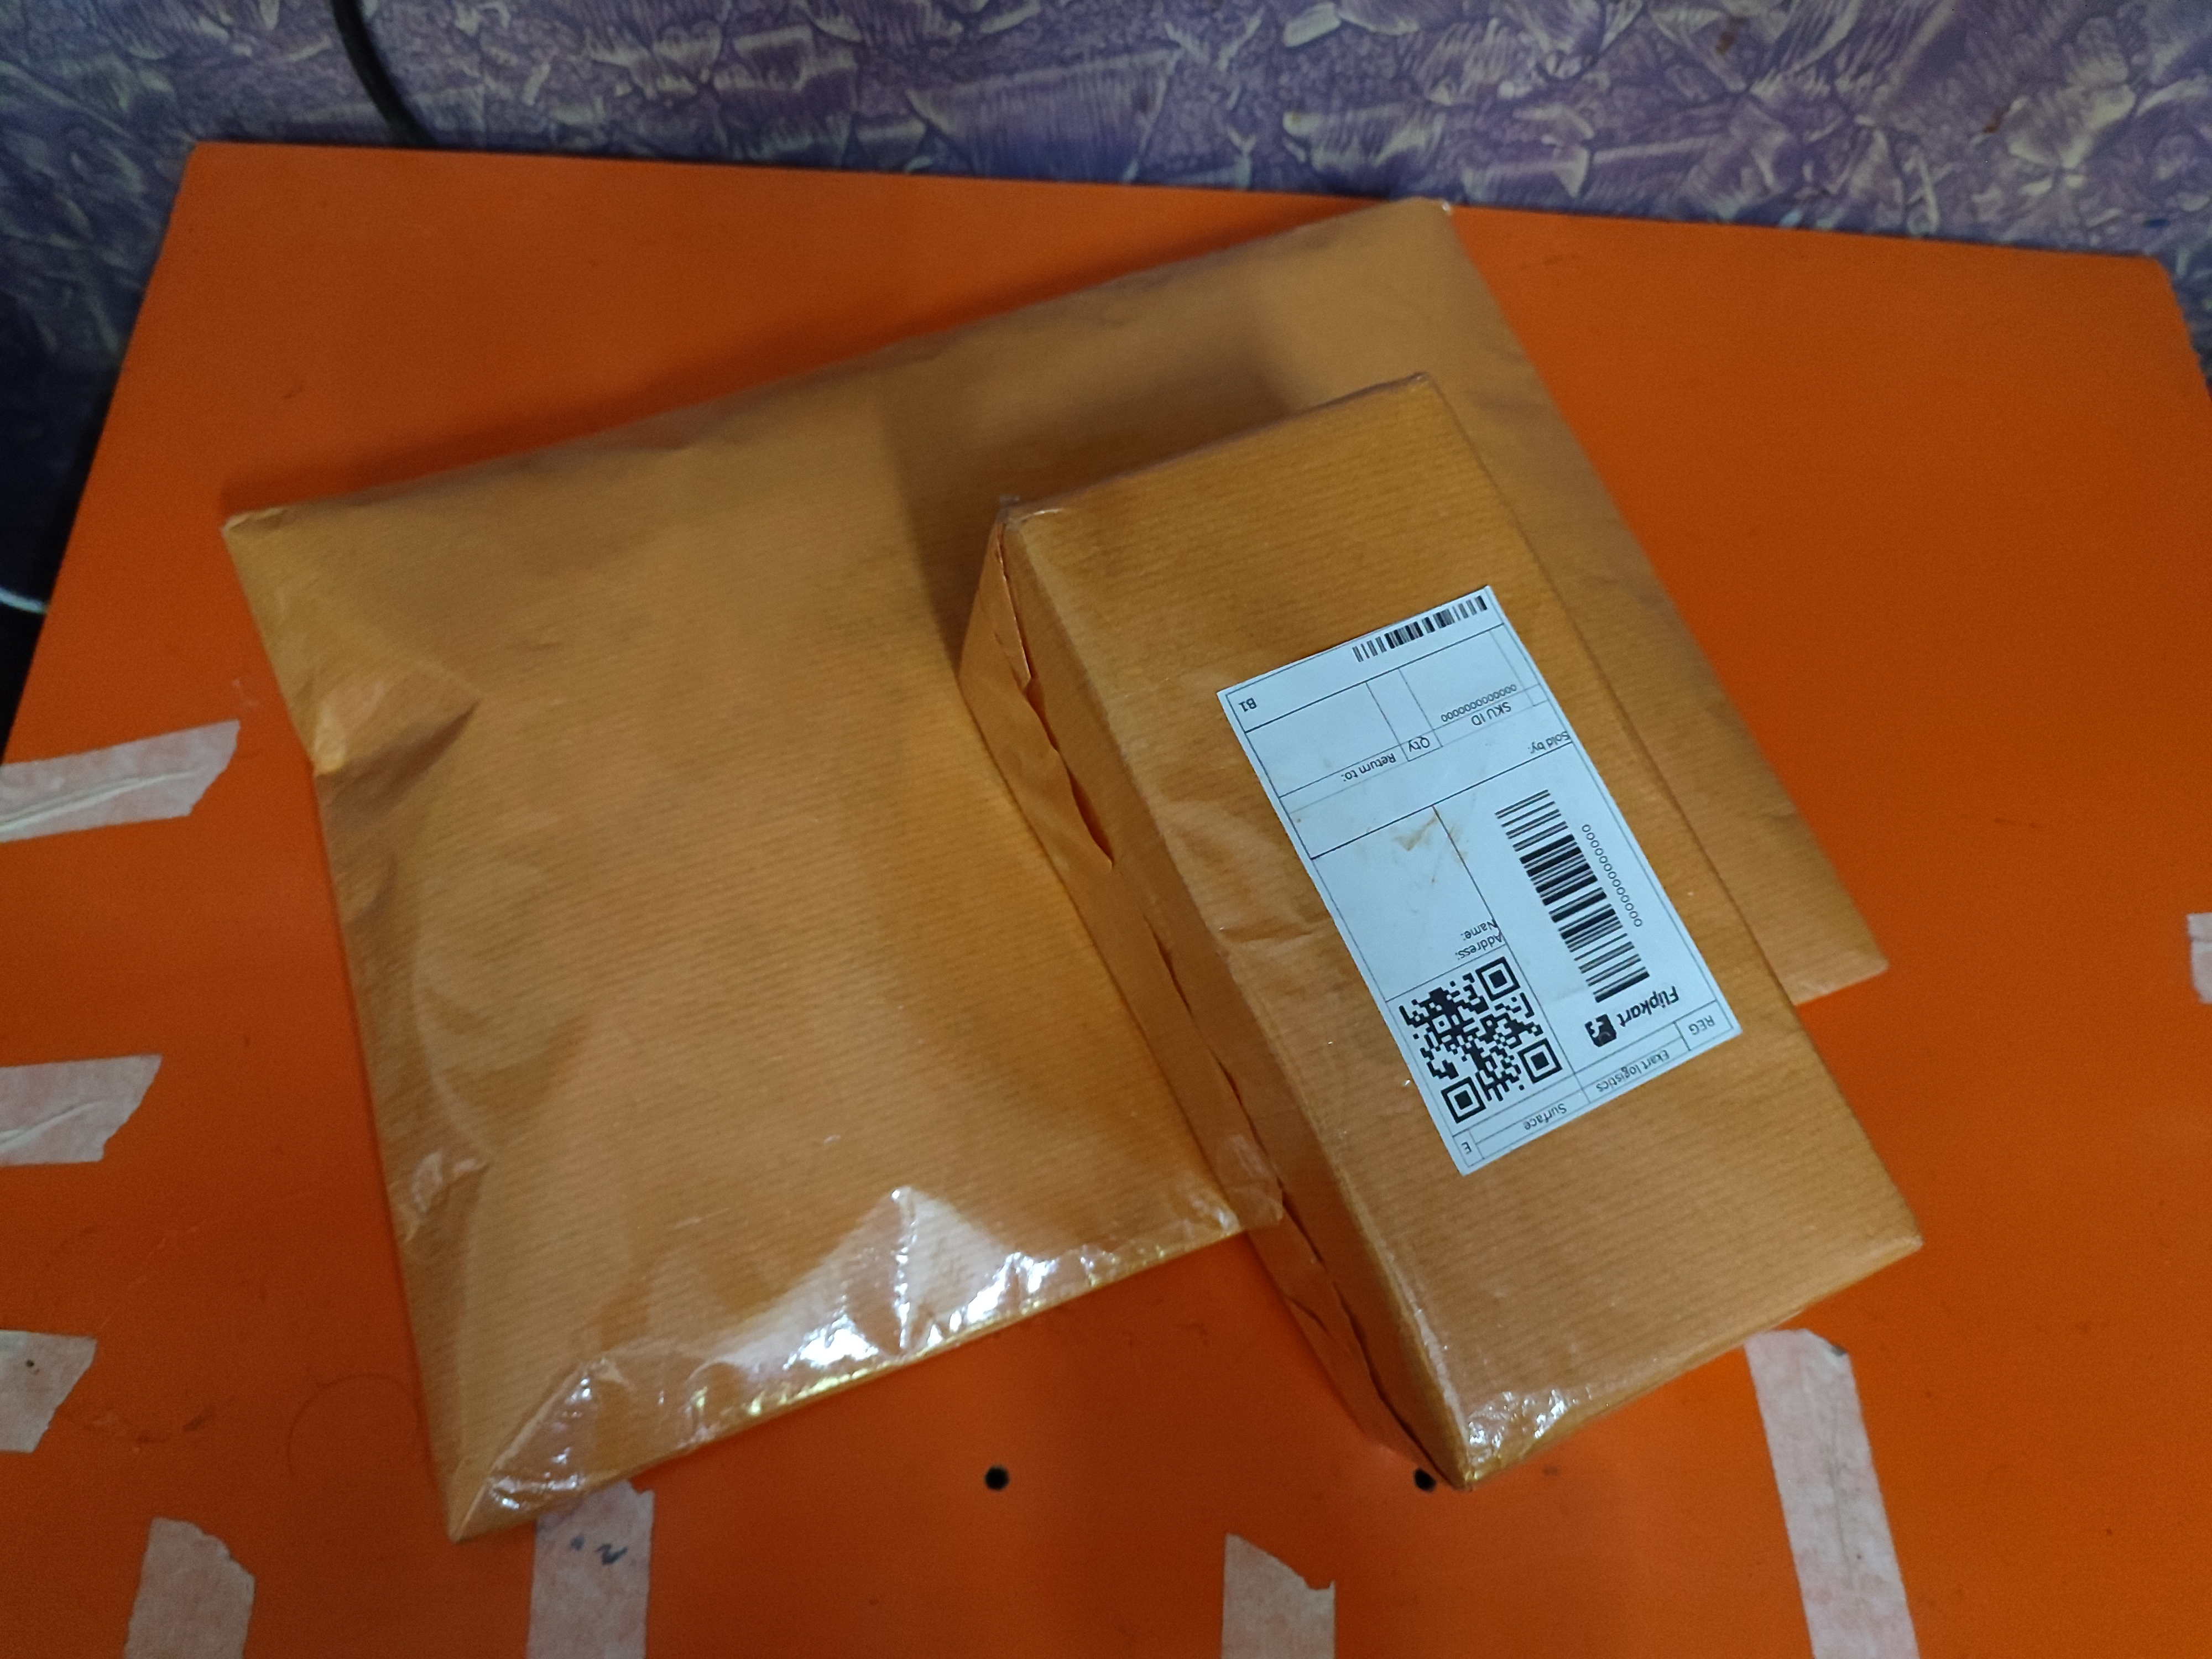Box: (164, 213, 1728, 1405), (937, 396, 1905, 1565)
